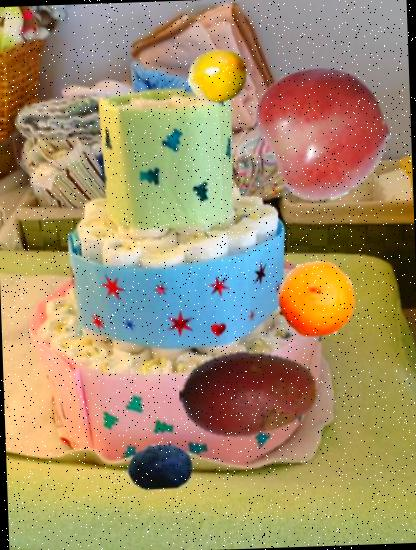Blueberry: (127, 433, 194, 501)
Cherry: (254, 62, 394, 201)
Lemon: (276, 258, 358, 339)
Maracuja: (187, 48, 250, 111)
Potato: (177, 322, 322, 468)
